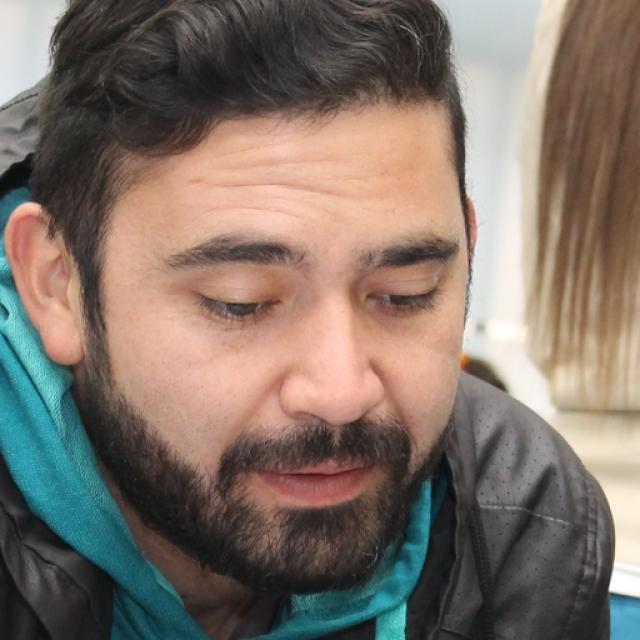sad: (95, 91, 466, 585)
